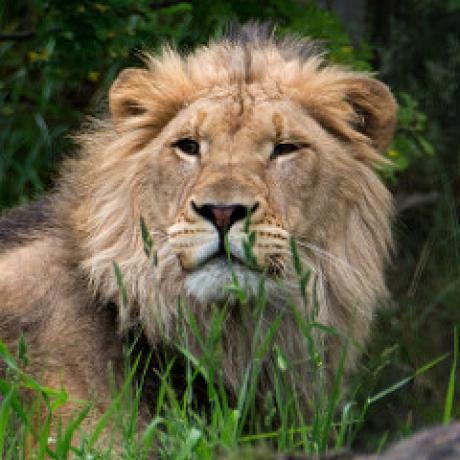Lion: (0, 22, 398, 450)
